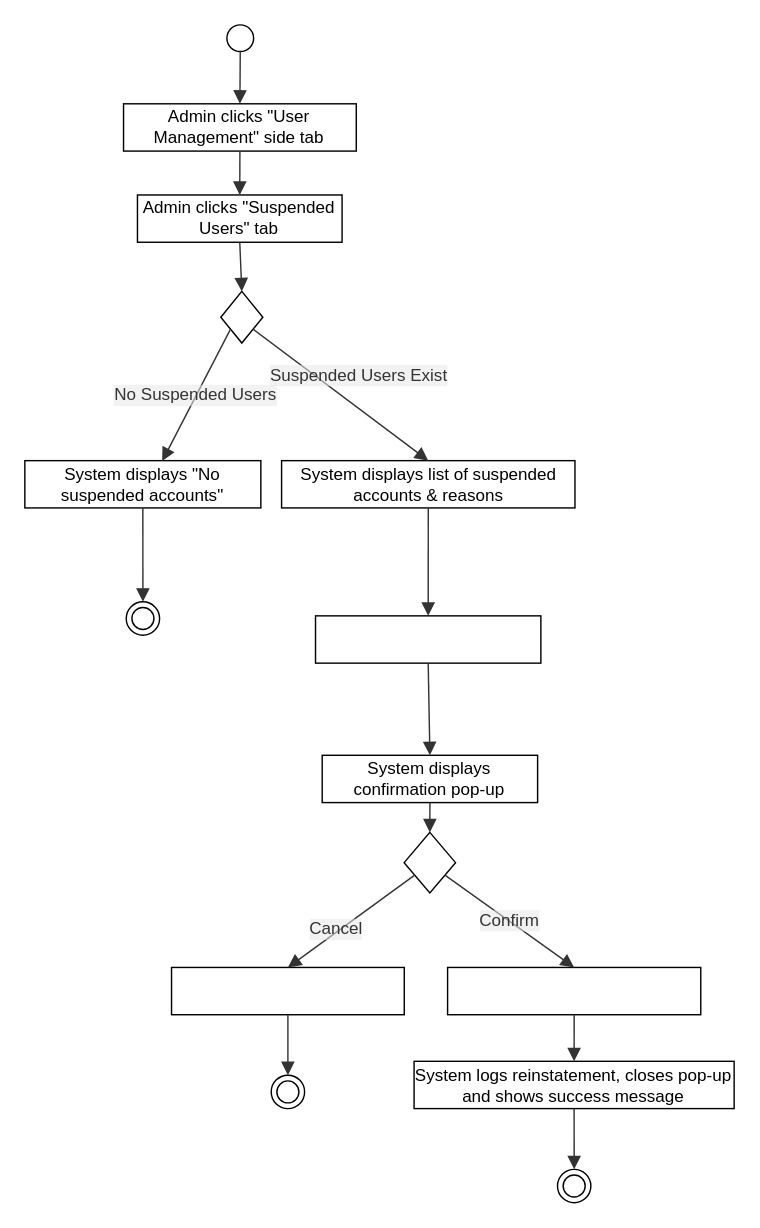
The diagram is 760 pixels wide and 1228 high, and some of its shapes have lost their labels. The centre of each missing label's shape, as x and y in pixels:
Admin picks user and clicks "Reinstate User": point (427, 638)
Pop-up closes & user stays suspended: point (287, 990)
System updates user status to active and restores login access: point (573, 990)
